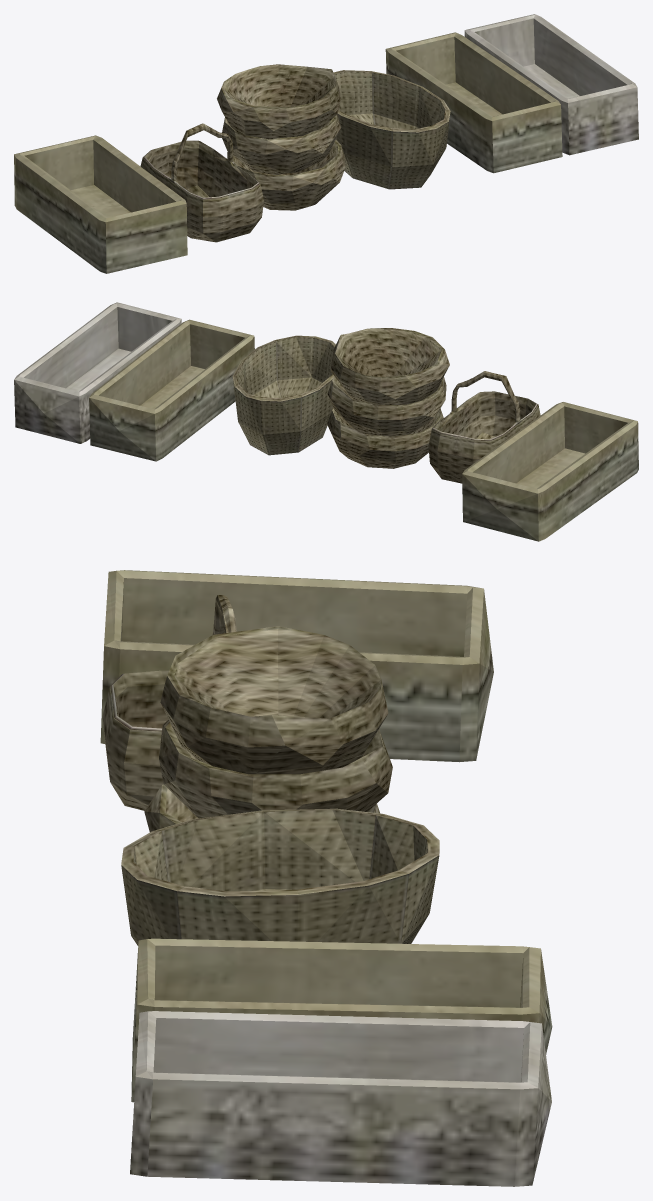
File: TW2_9_ADDONS_04_6-transformed.glb
3 views of the same model, one above another, from view 1: azimuth 30°, elevation 25°; view 2: azimuth 150°, elevation 25°; view 3: azimuth 270°, elevation 25° (orthographic). The views are drawn at different scales.
Parts seen in each view (by area): view 1: default; view 2: default; view 3: default.
Part boxes in pixels (x1,y1,x2,y2): default: (14,14,638,273); default: (14,302,638,541); default: (100,570,552,1186).
Bounding box in the file's own units: 2.24 × 0.4487 × 0.8415.
1 material, 1 textured.
